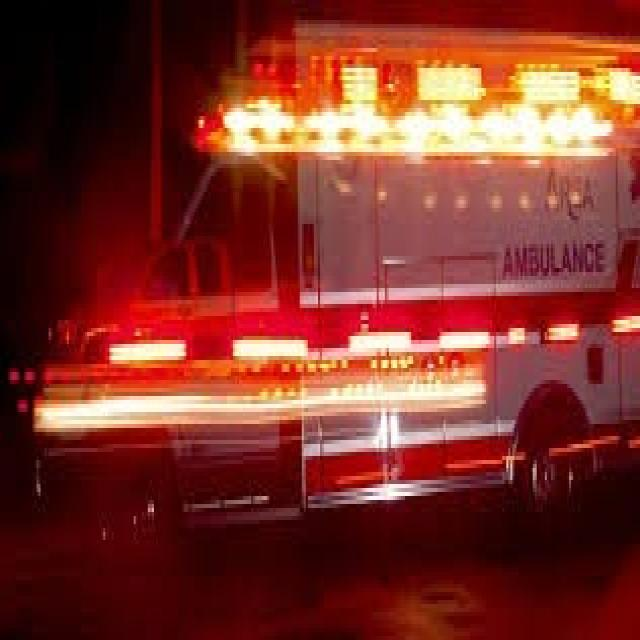ambulance: (14, 17, 640, 548)
